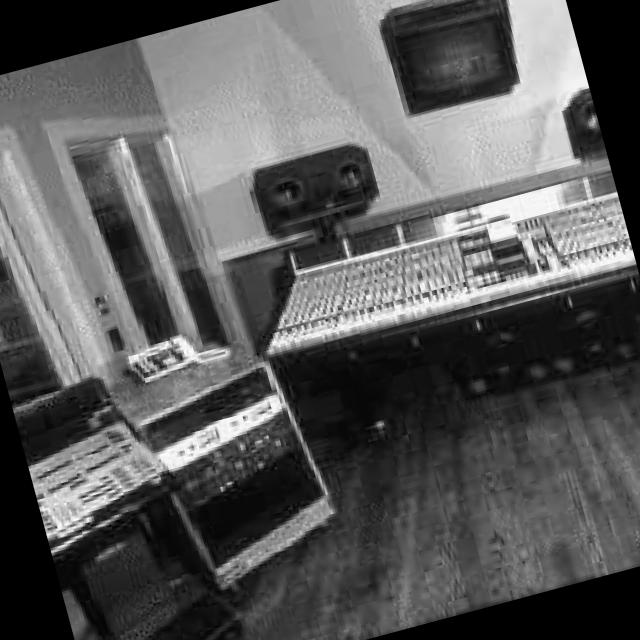2001: (67, 125, 250, 359)
2003: (0, 146, 99, 404)
floor -X: (52, 299, 640, 640)
furniture crop: (107, 338, 336, 595)
graphic equalizer: (16, 373, 241, 640)
loudspeaker: (258, 141, 382, 232)
monitor crop: (381, 0, 521, 112)
synthesizer: (268, 189, 640, 393)
wall clock: (138, 0, 640, 380), (0, 38, 271, 544)
